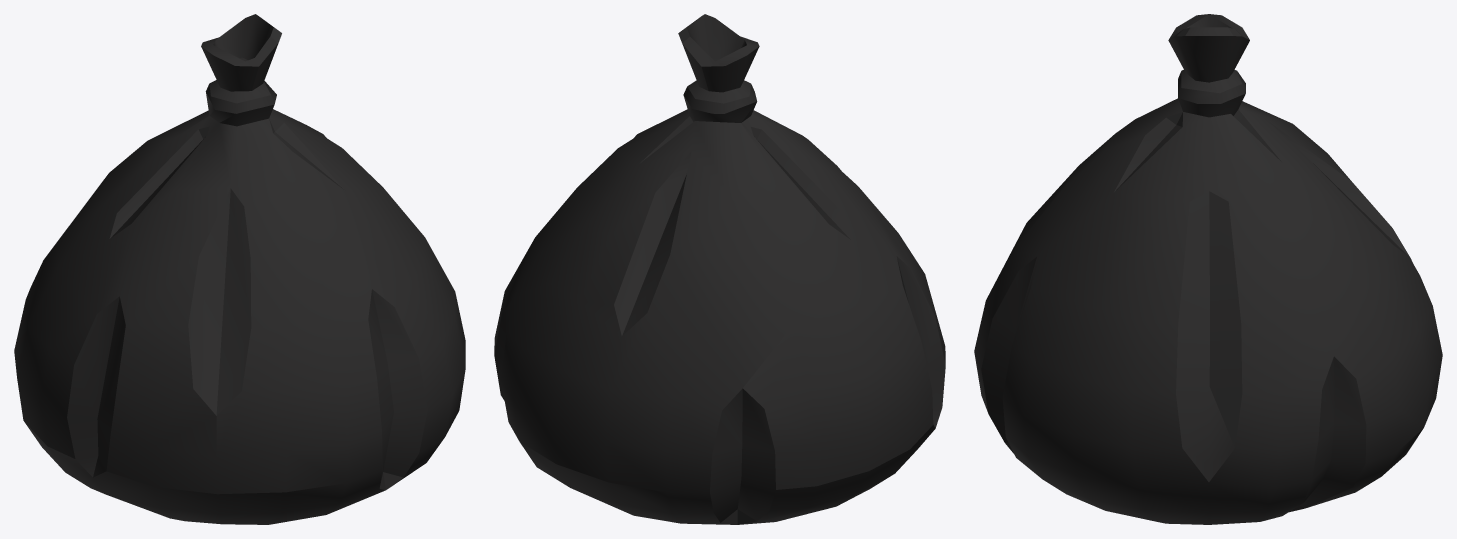
The model's file is cc0-trash-bag-lod1.glb.
The picture shows the model from 3 angles, left to right: view 1: azimuth 30°, elevation 25°; view 2: azimuth 150°, elevation 25°; view 3: azimuth 270°, elevation 25°; orthographic projection. The views are drawn at different scales.
Visible parts, largest first — view 1: part_0; view 2: part_0; view 3: part_0.
Boxes of the visible parts, x1,y1,x2,y2 form: part_0: [14, 14, 465, 524]; part_0: [494, 14, 945, 524]; part_0: [974, 14, 1442, 524].
Size of the model in its own units: 0.4969 by 0.5608 by 0.5033.
1 material, 1 textured.
